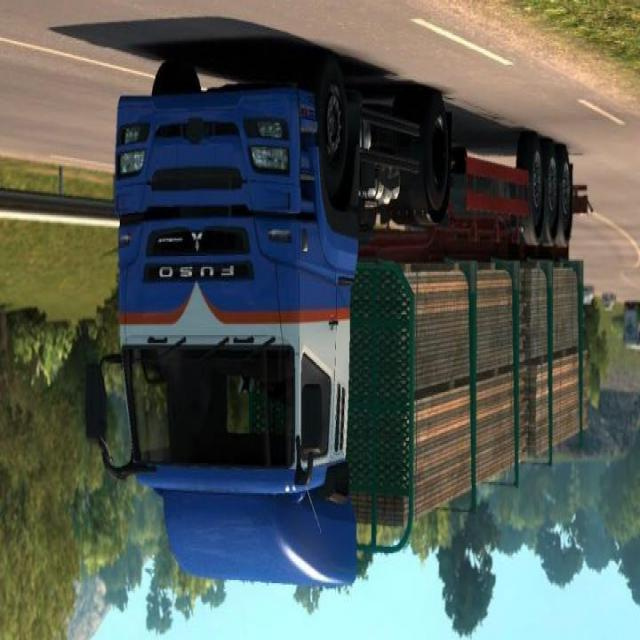truck: (90, 62, 592, 588)
